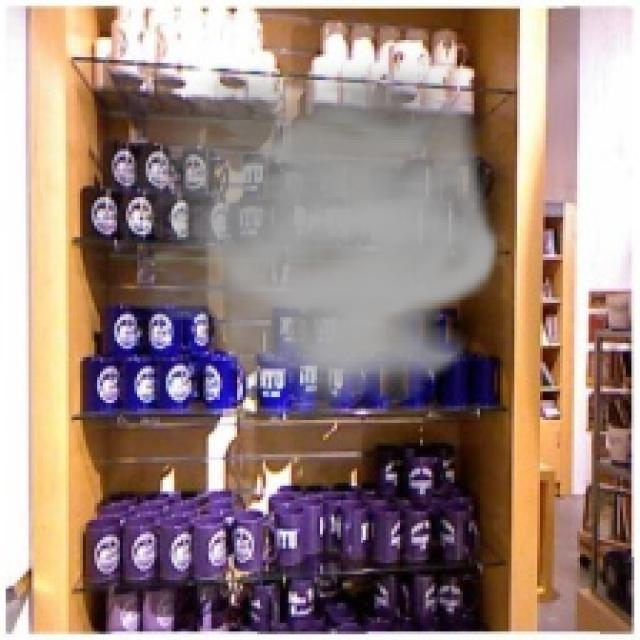smoke: (94, 51, 506, 412)
